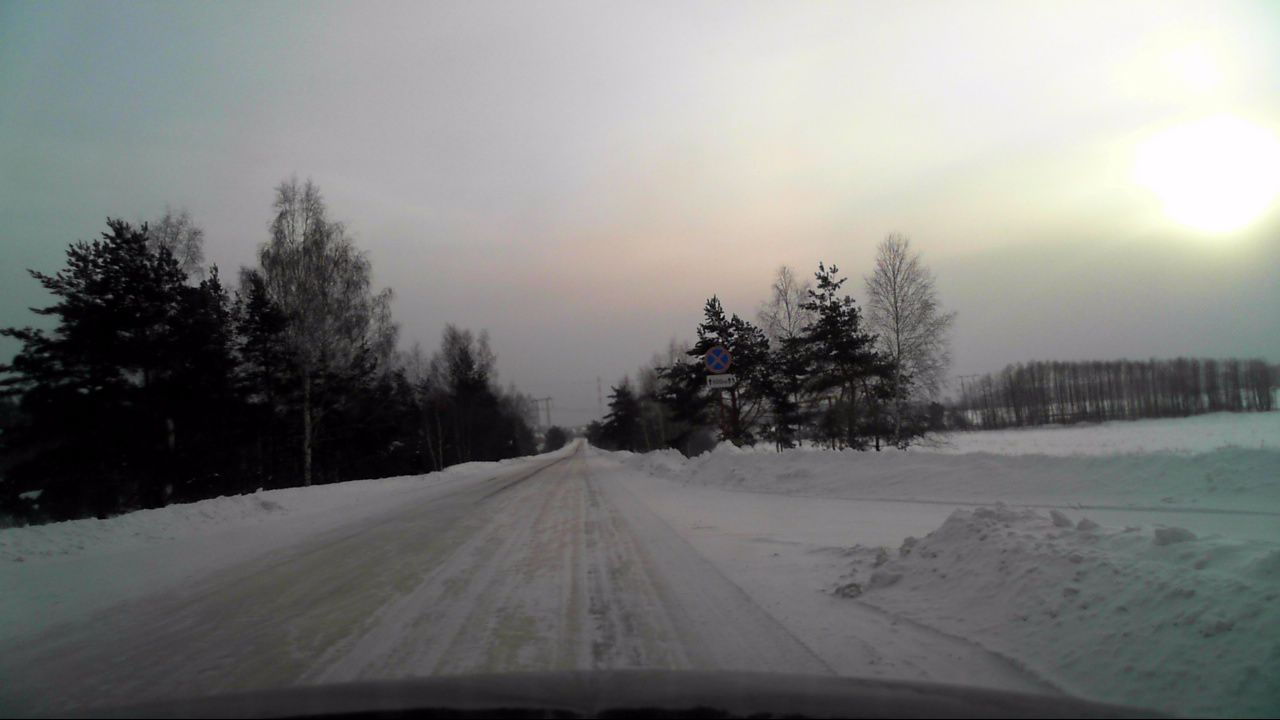No Parking: (704, 346, 730, 374)
